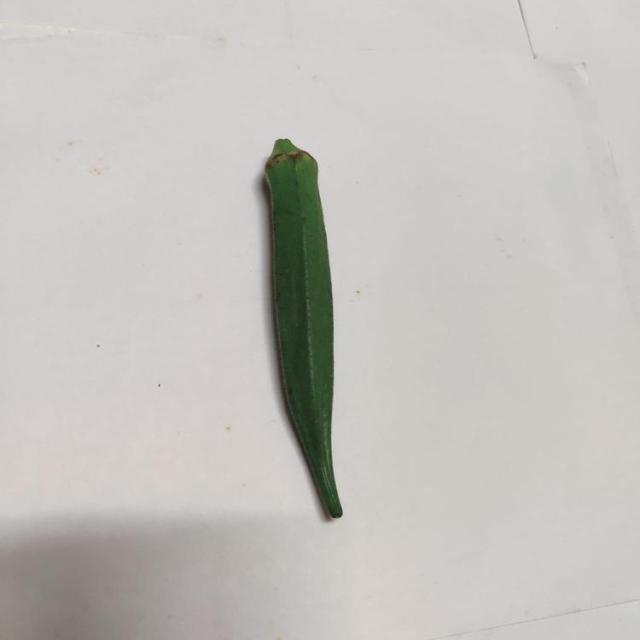Organik: (255, 125, 362, 522)
